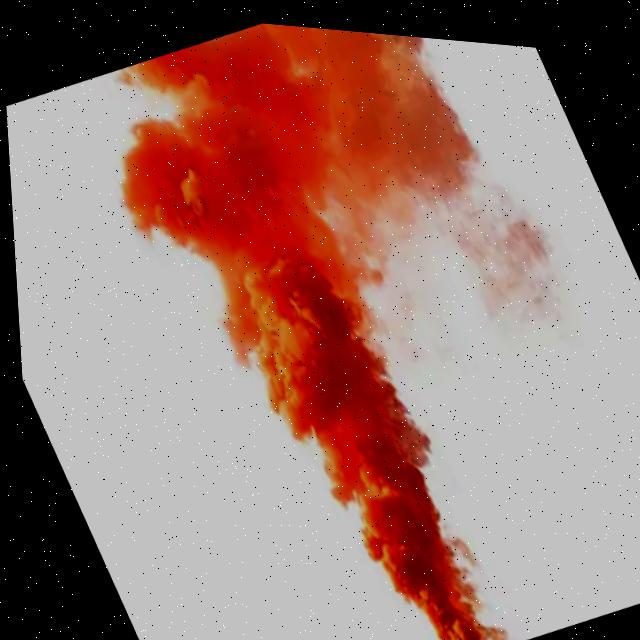Smoke: (61, 4, 640, 640)
